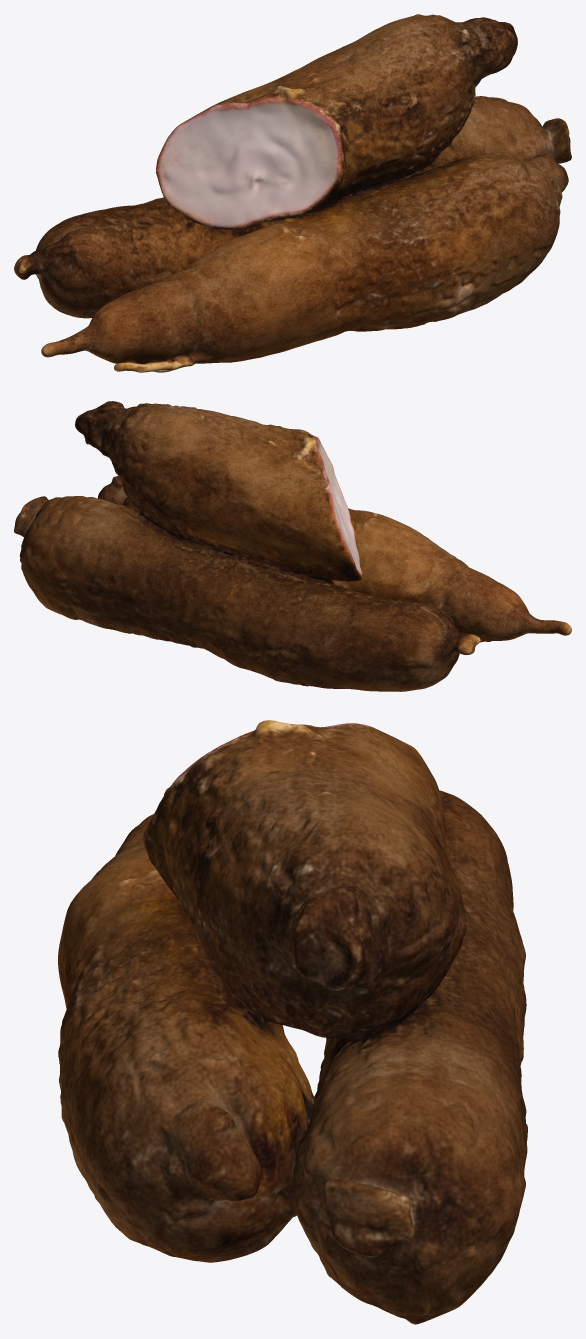
Rendered from yuca.glb.
The picture shows the model from 3 angles, top to bottom: view 1: azimuth 30°, elevation 25°; view 2: azimuth 150°, elevation 25°; view 3: azimuth 270°, elevation 25°; orthographic projection. The views are drawn at different scales.
Parts seen in each view (by area): view 1: world; view 2: world; view 3: world.
Part boxes in pixels (x1,y1,x2,y2): world: (14,14,571,372); world: (14,401,571,691); world: (58,720,527,1324).
Size of the model in its own units: 1 by 0.4153 by 0.4071.
1 material, 1 textured.
